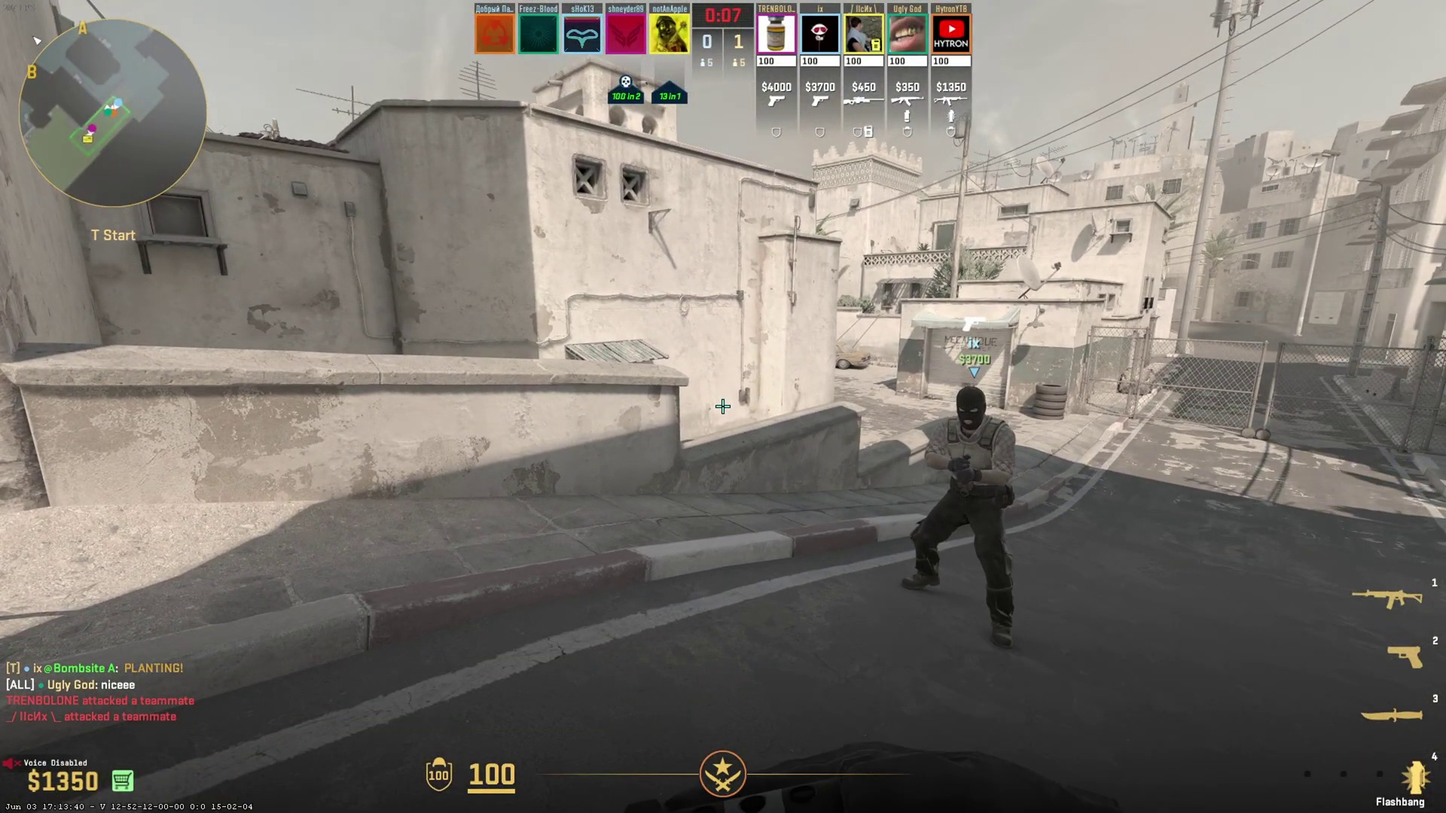Terrorist: (915, 388, 1014, 648)
